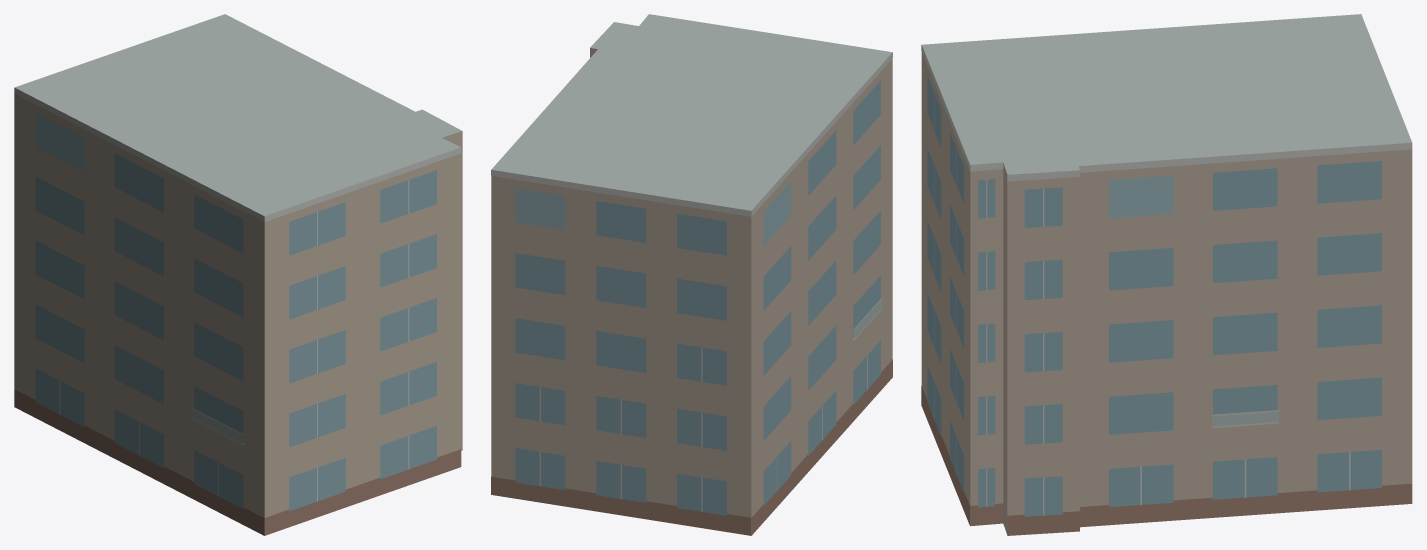
The model's file is survey-upis-32882592.glb.
3 renders of one model, left to right at view 1: azimuth 30°, elevation 25°; view 2: azimuth 150°, elevation 25°; view 3: azimuth 270°, elevation 25°, orthographic. The views are drawn at different scales.
Parts seen in each view (by area): view 1: survey-upis-32882592.tmp; view 2: survey-upis-32882592.tmp; view 3: survey-upis-32882592.tmp.
Part boxes in pixels (x1,y1,x2,y2): survey-upis-32882592.tmp: (14,14,462,535); survey-upis-32882592.tmp: (491,14,892,535); survey-upis-32882592.tmp: (921,14,1412,535).
Bounding box in the file's own units: 12.61 × 13.2 × 16.27.
